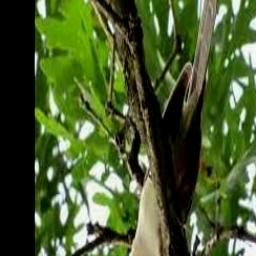Cuckoo: (112, 0, 221, 256)
